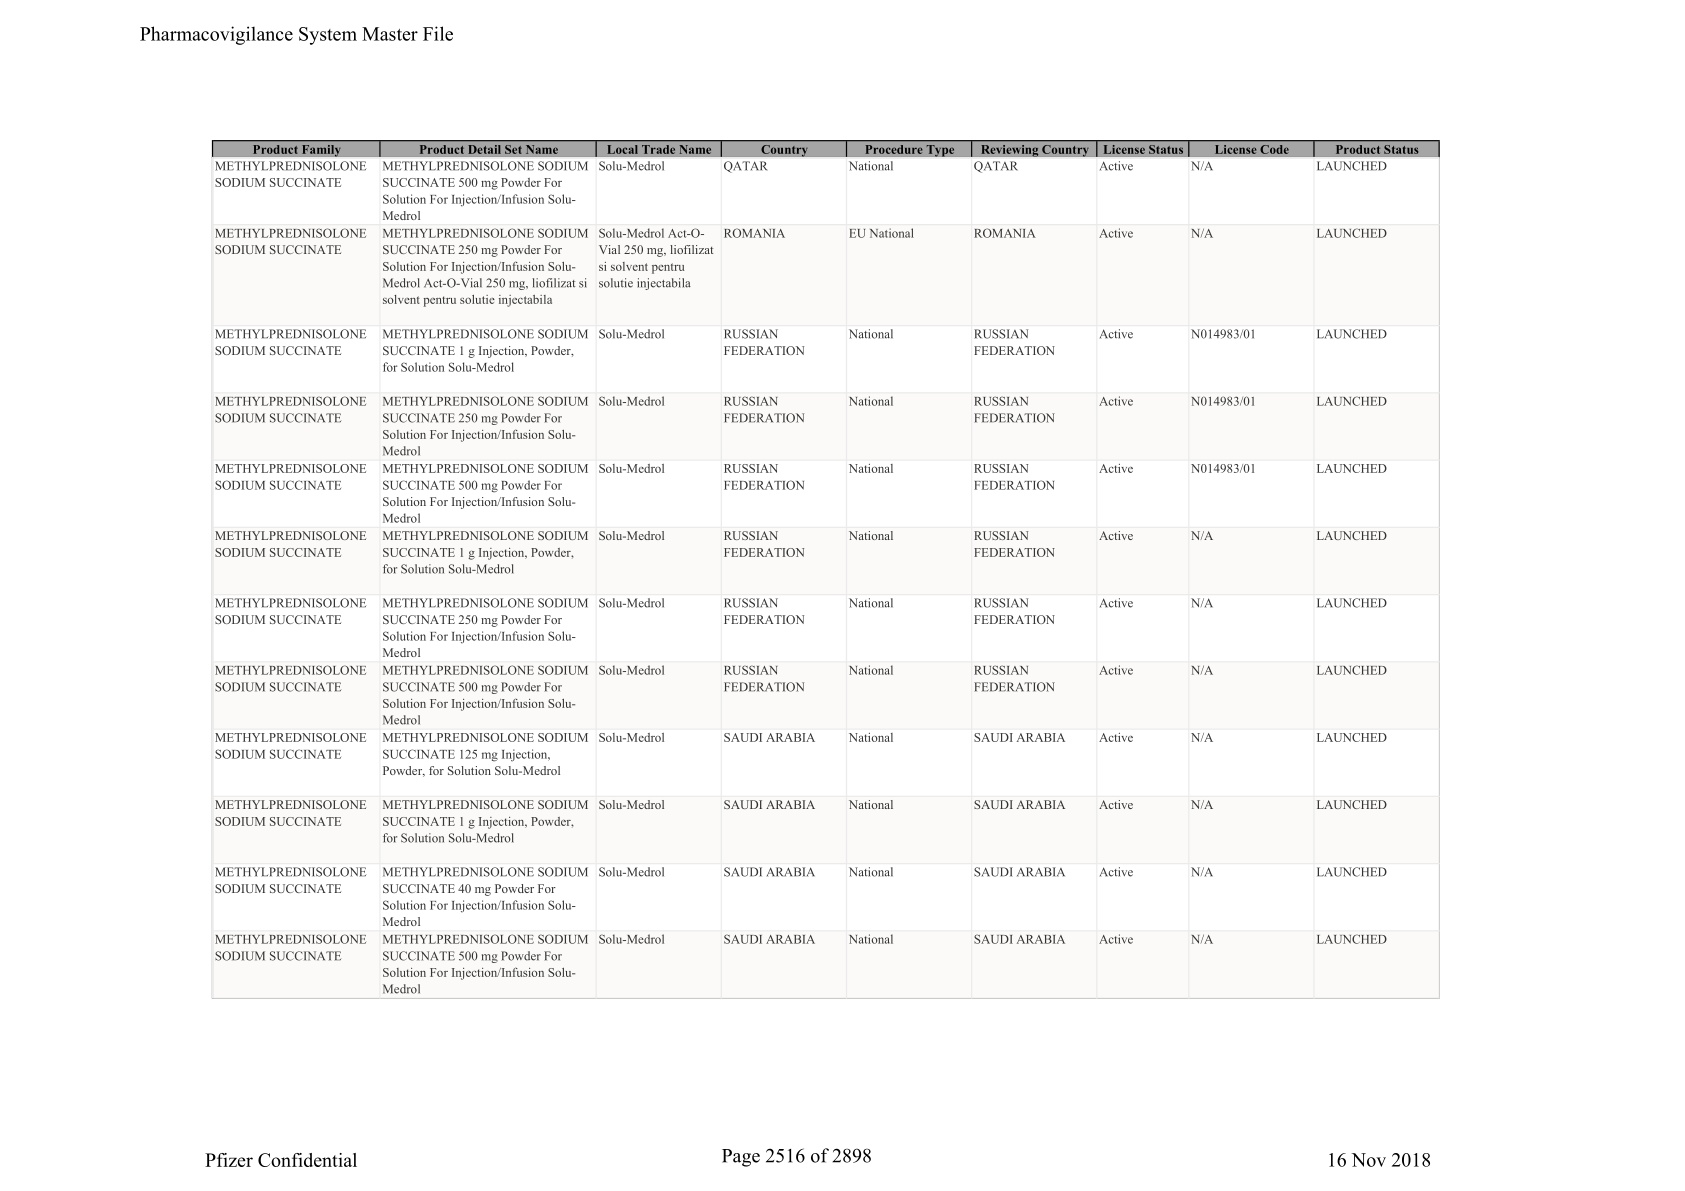full_lined: (211, 139, 1441, 1000)
